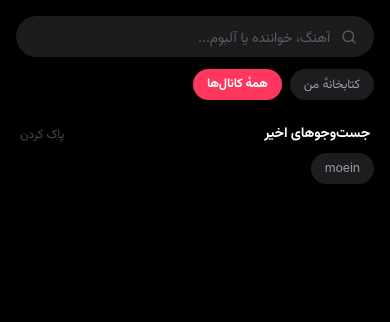
Test: Search › switches scope and shows the degraded banner
Click the button "همهٔ کانال‌ها": click(237, 84) 193,69 -> 282,100
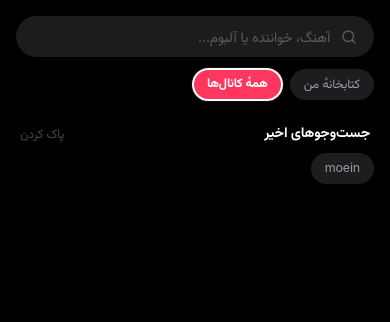
In the search field: (181, 36) 32,26 -> 330,47, type "x"
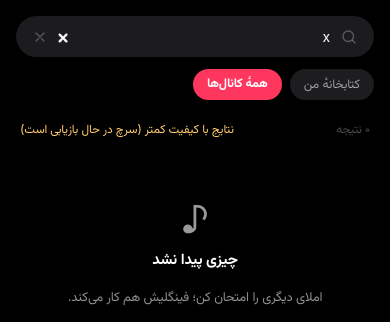
Check: the text "نتایج با کیفیت کمتر (سرچ در حال بازیابی است)" is shown, box 20,120 -> 234,138
Check: the text "چیزی پیدا نشد" is shown, box 152,250 -> 238,272
